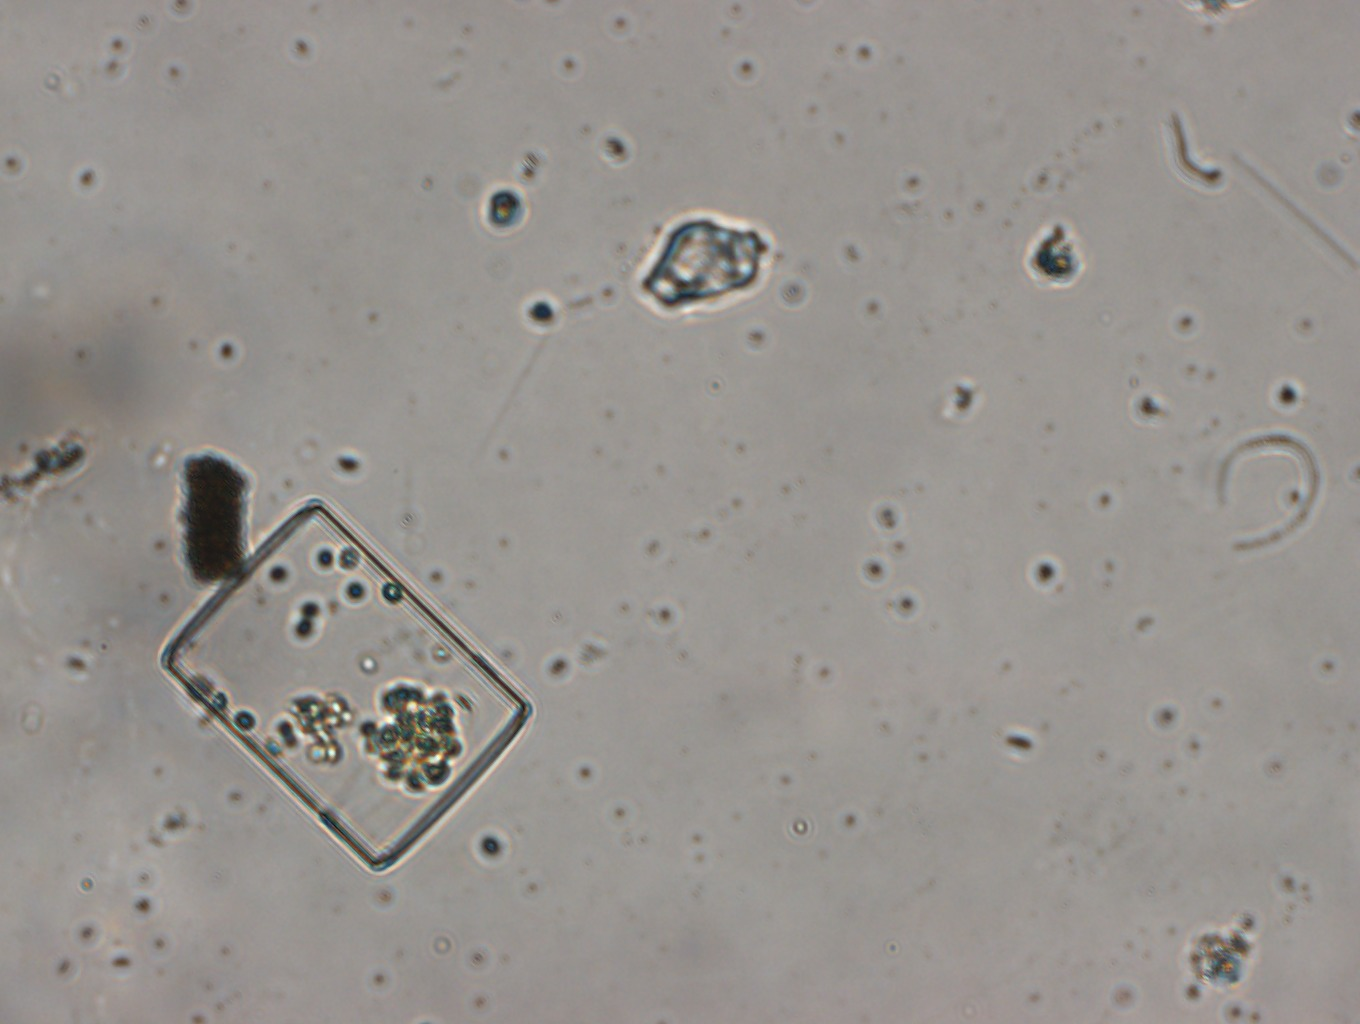guinardia flaccida: (145, 493, 535, 877)
